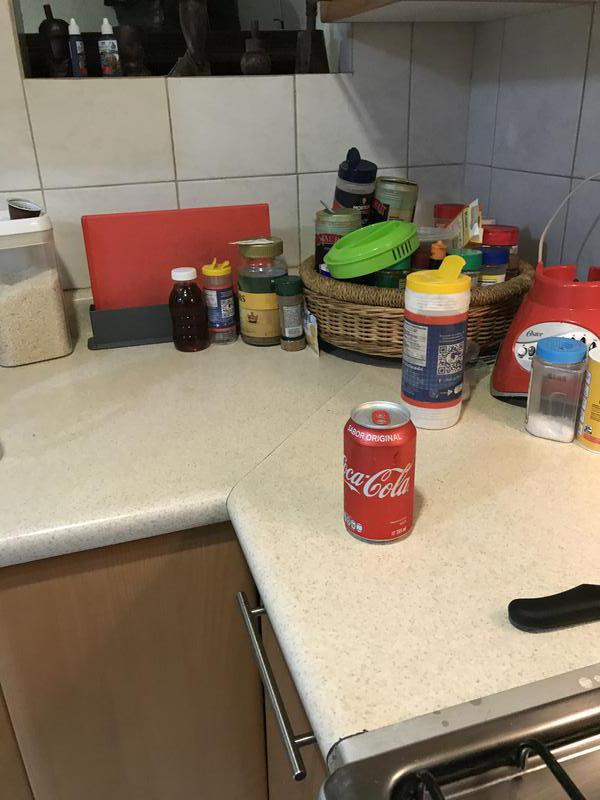coca_cola: (342, 403, 415, 544)
